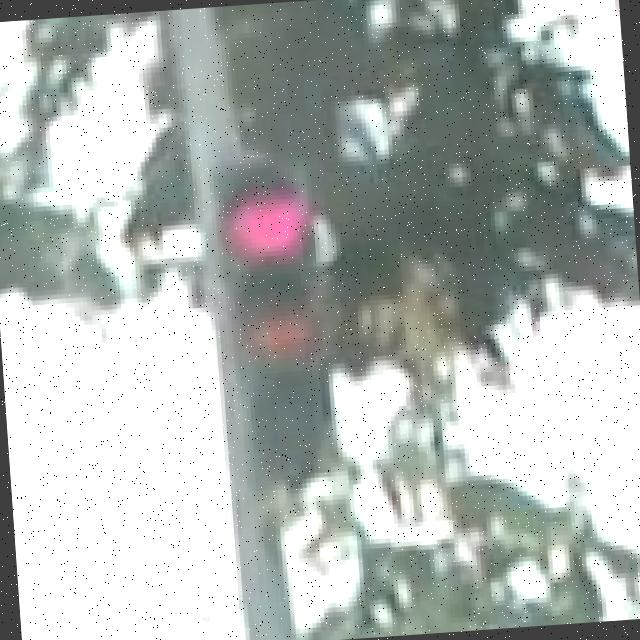Zolte swiatlo: (212, 154, 348, 484)
